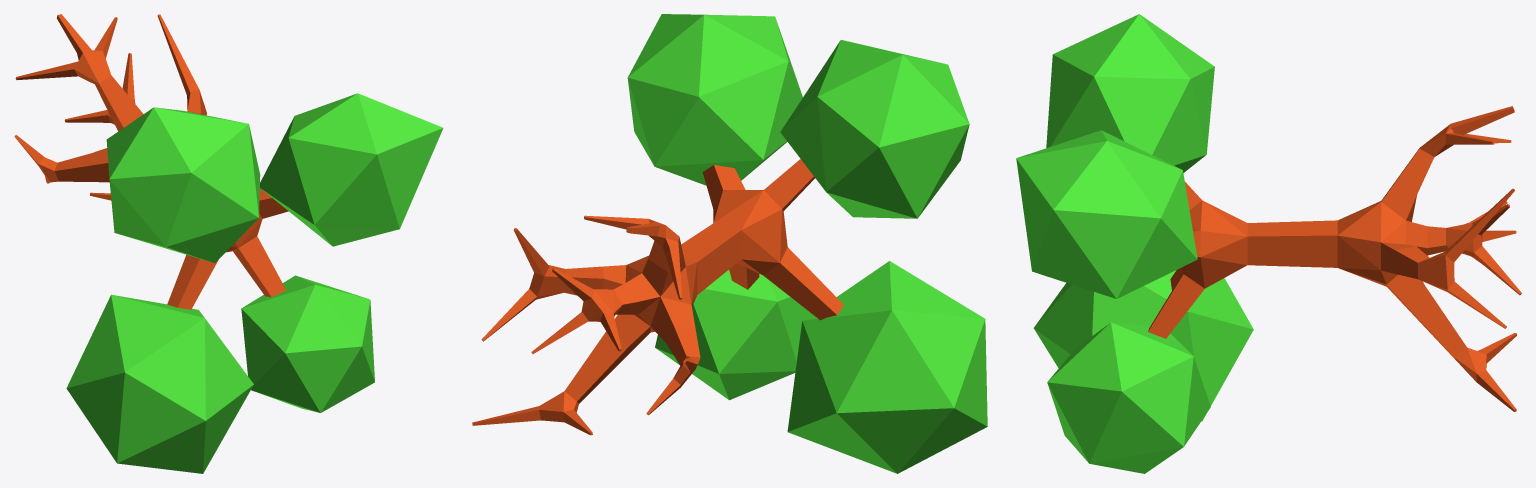
The model's file is tree 4.fbx.
3 renders of one model, left to right at view 1: azimuth 30°, elevation 25°; view 2: azimuth 150°, elevation 25°; view 3: azimuth 270°, elevation 25°, orthographic. The views are drawn at different scales.
Visible parts, largest first — view 1: Mangrove tree 1 LOD_0; view 2: Mangrove tree 1 LOD_0; view 3: Mangrove tree 1 LOD_0.
Boxes of the visible parts, bbox=[...] form: Mangrove tree 1 LOD_0: bbox=[14, 14, 443, 473]; Mangrove tree 1 LOD_0: bbox=[472, 14, 987, 473]; Mangrove tree 1 LOD_0: bbox=[1016, 14, 1521, 473].
Size of what is drawn, in the model's own units: 255 by 277 by 316.
